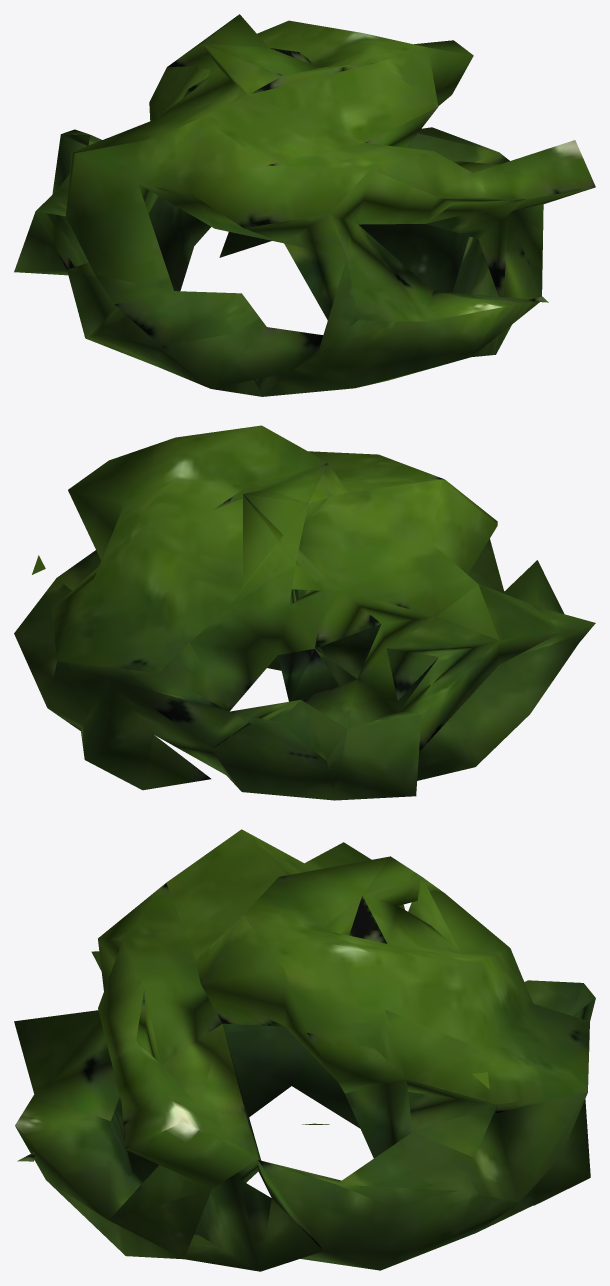
File: bush_lod1.glb
3 views of the same model, one above another, from view 1: azimuth 30°, elevation 25°; view 2: azimuth 150°, elevation 25°; view 3: azimuth 270°, elevation 25° (orthographic). The views are drawn at different scales.
Visible parts, largest first — view 1: bush_lod1; view 2: bush_lod1; view 3: bush_lod1.
Part boxes in pixels (x1,y1,x2,y2): bush_lod1: (14,14,595,396); bush_lod1: (14,425,595,800); bush_lod1: (14,829,595,1271).
Size of the model in its own units: 2.11 by 1.22 by 2.02.
Materials: 1 (1 with a texture image).
